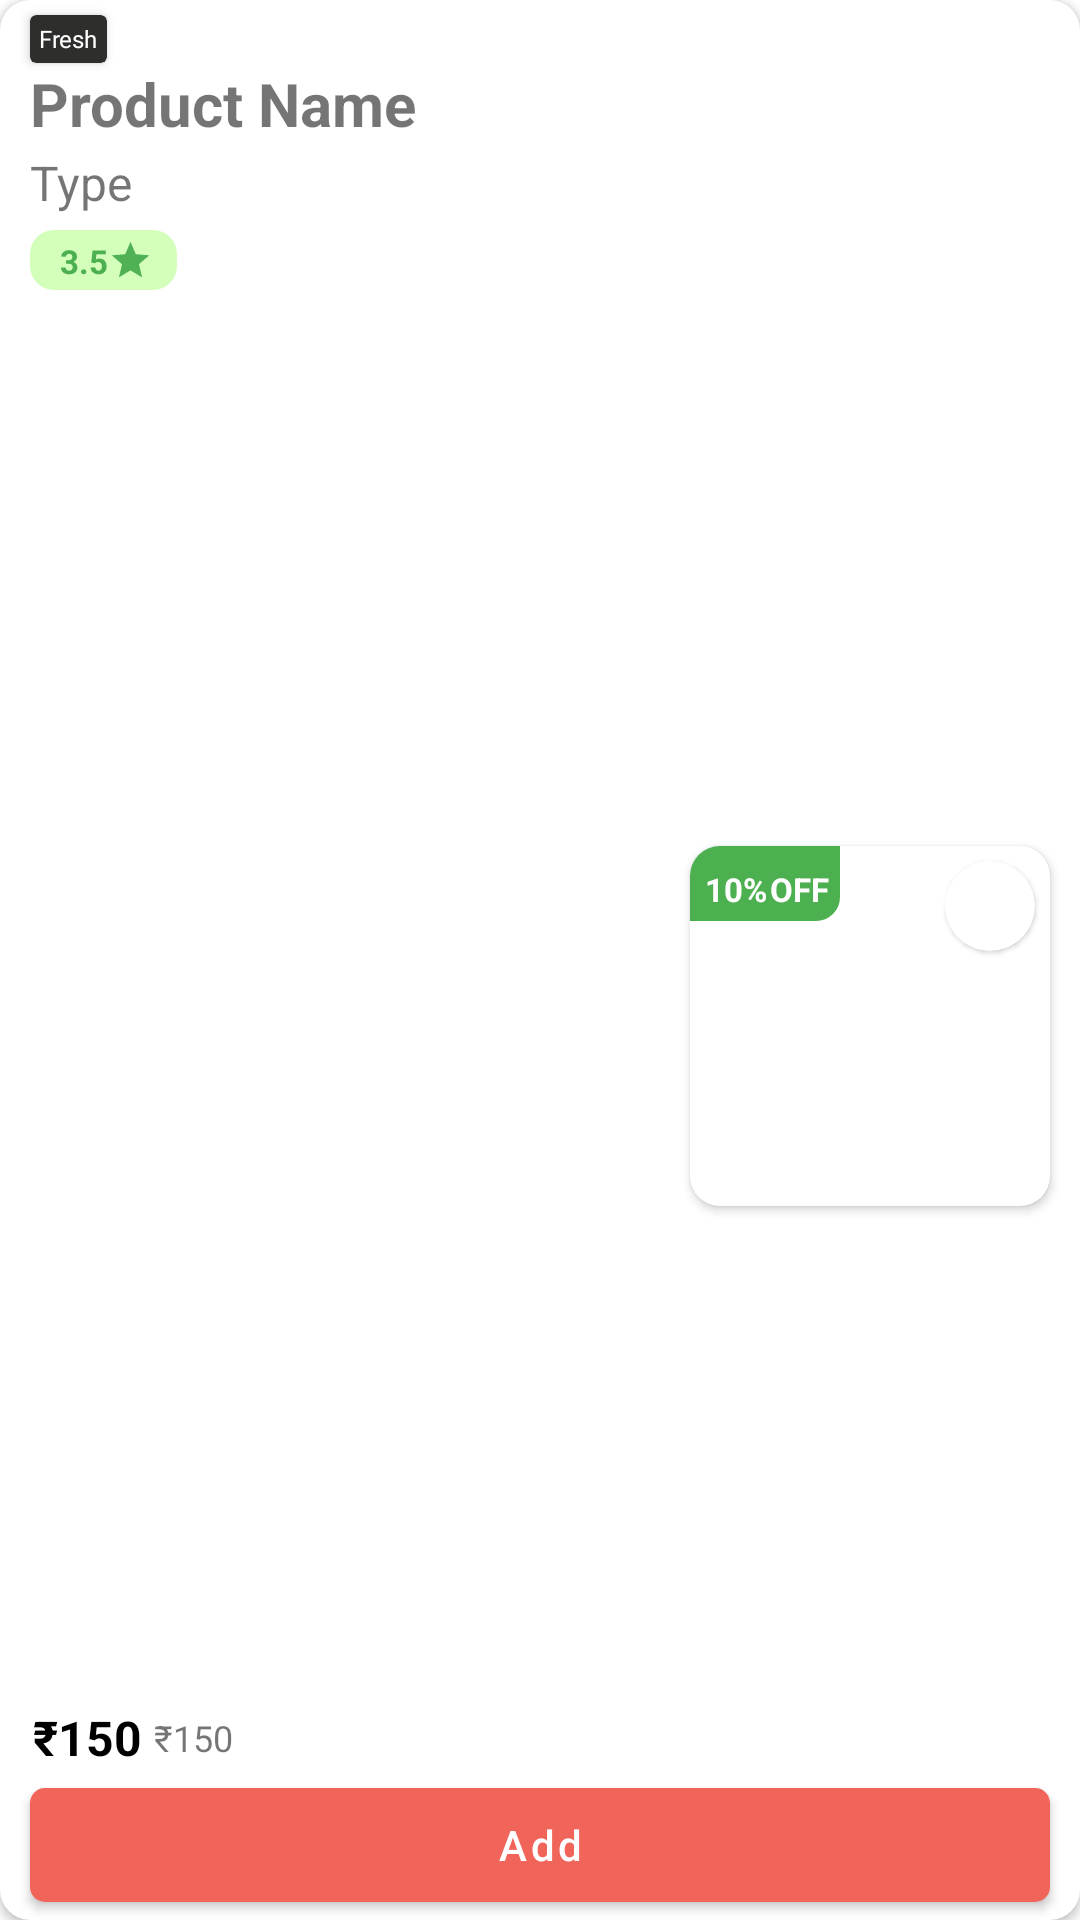

Named icons in this screenshot (1080*1920) and their bounding boxes, (x1, y1, x2, y2):
star: (112, 242, 149, 277)
